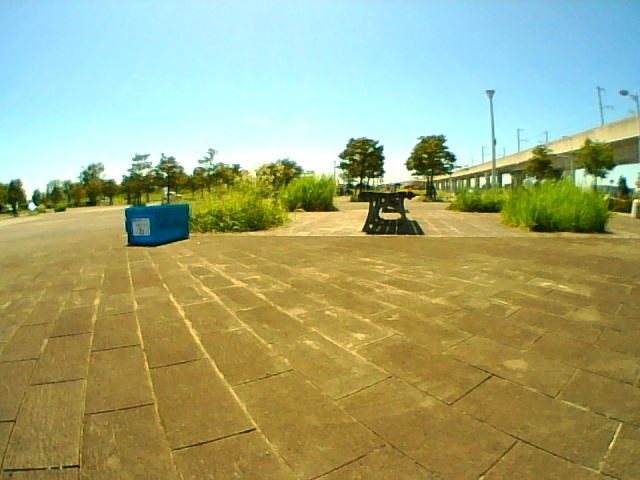blue_box: (126, 205, 189, 245)
tag_b: (131, 219, 149, 235)
